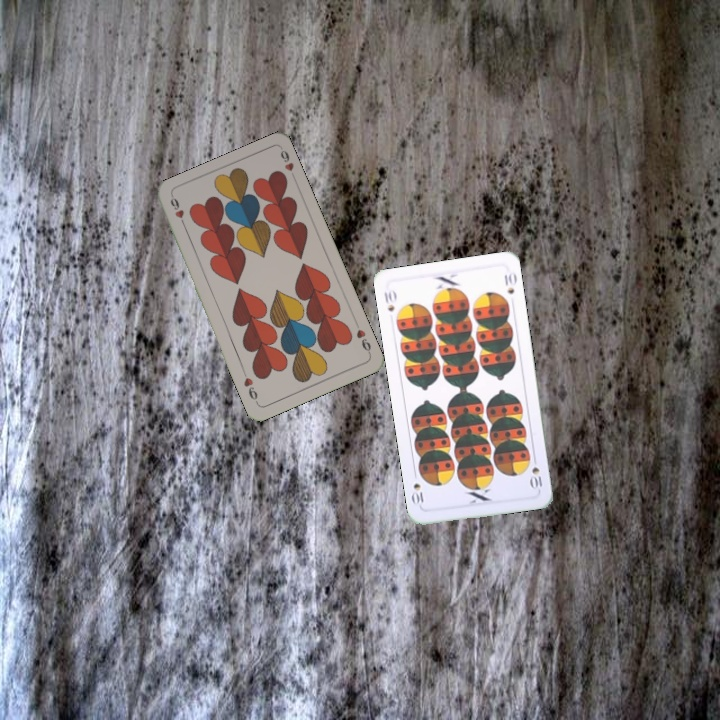H9: (351, 319, 374, 357), (166, 193, 189, 231)
S10: (527, 463, 545, 493), (380, 286, 399, 314)
